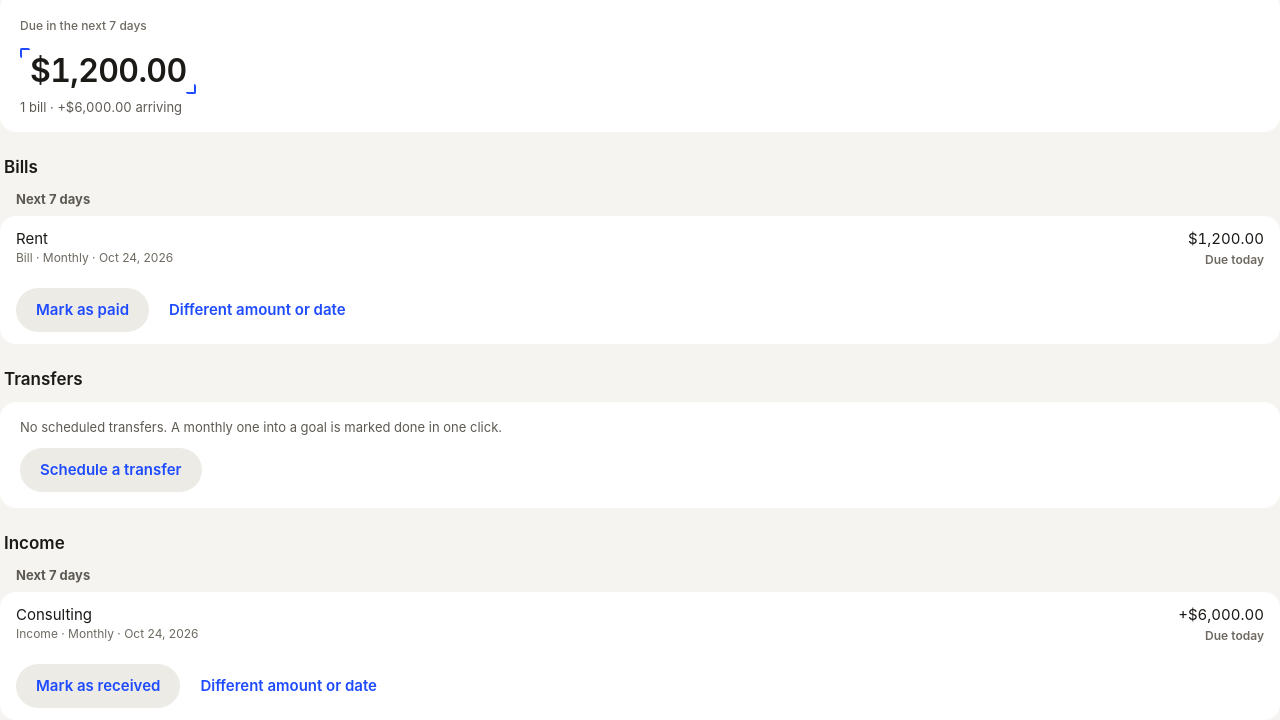
Scenario: BillsPage › counts only bills as due, names income arriving beside them, and receives income
(page scrolled)
What coordinates should you click on to do the following:
click the button "Mark as received"
I would click on:
 (98, 686)
Its box is x1=16 y1=664 x2=180 y2=708.
(page scrolled)
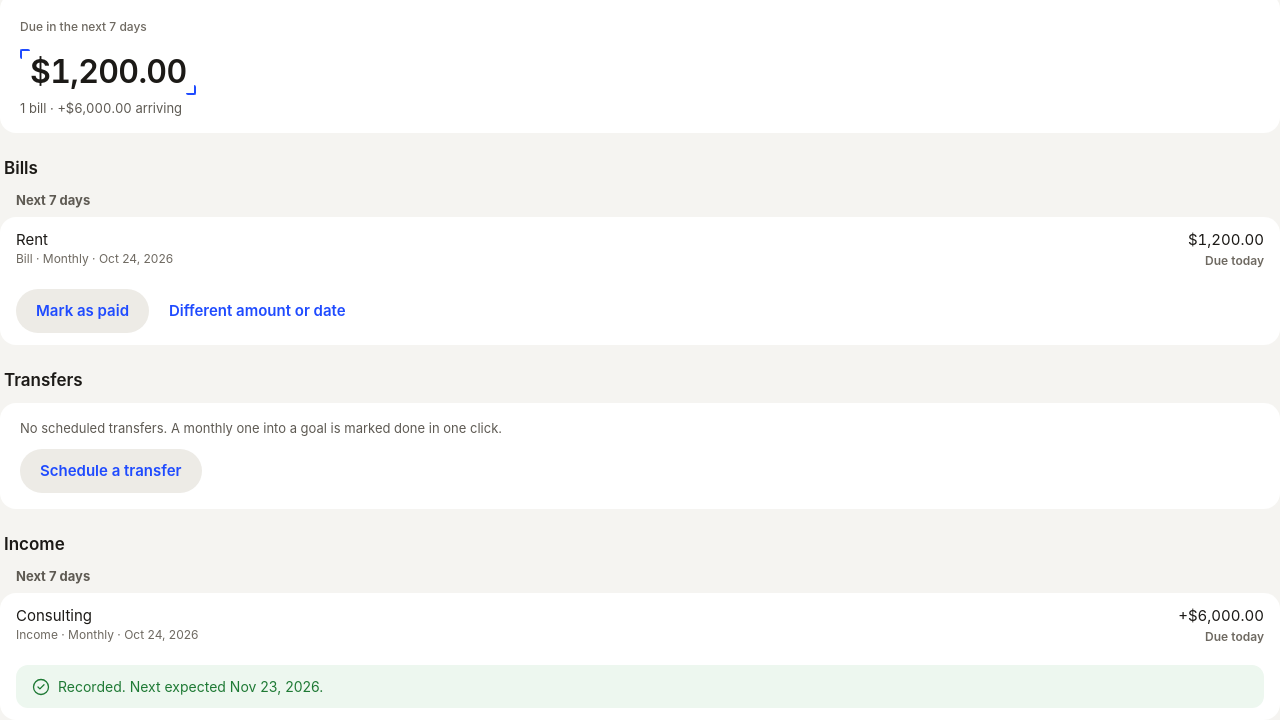
Check: the text "Recorded. Next expected Nov 23, 2026." is shown, box x1=58 y1=677 x2=323 y2=696
